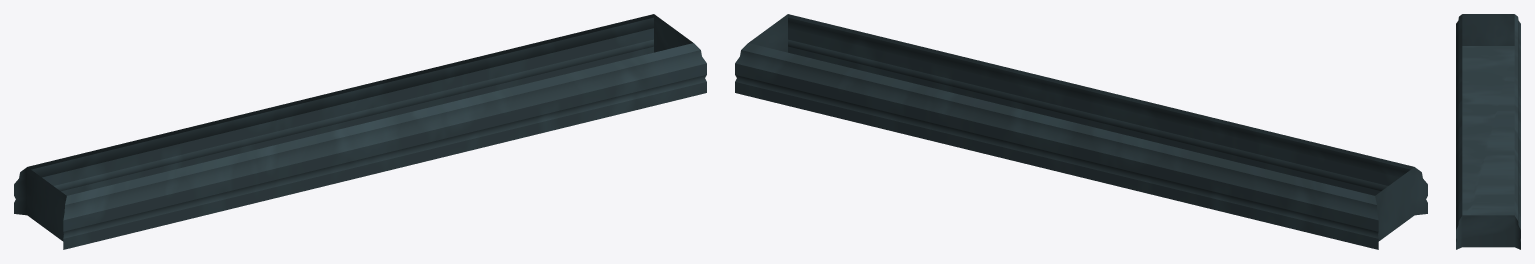
Rendered from Molding.fbx.
The picture shows the model from 3 angles, left to right: view 1: azimuth 30°, elevation 25°; view 2: azimuth 150°, elevation 25°; view 3: azimuth 270°, elevation 25°; orthographic projection. The views are drawn at different scales.
Parts seen in each view (by area): view 1: FloorMolding; view 2: FloorMolding; view 3: FloorMolding.
Boxes of the visible parts, bbox=[...] form: FloorMolding: bbox=[14, 14, 706, 249]; FloorMolding: bbox=[735, 14, 1427, 249]; FloorMolding: bbox=[1456, 14, 1520, 249].
Size of the model in its own units: 0.00938 by 0.000675 by 0.00125.
